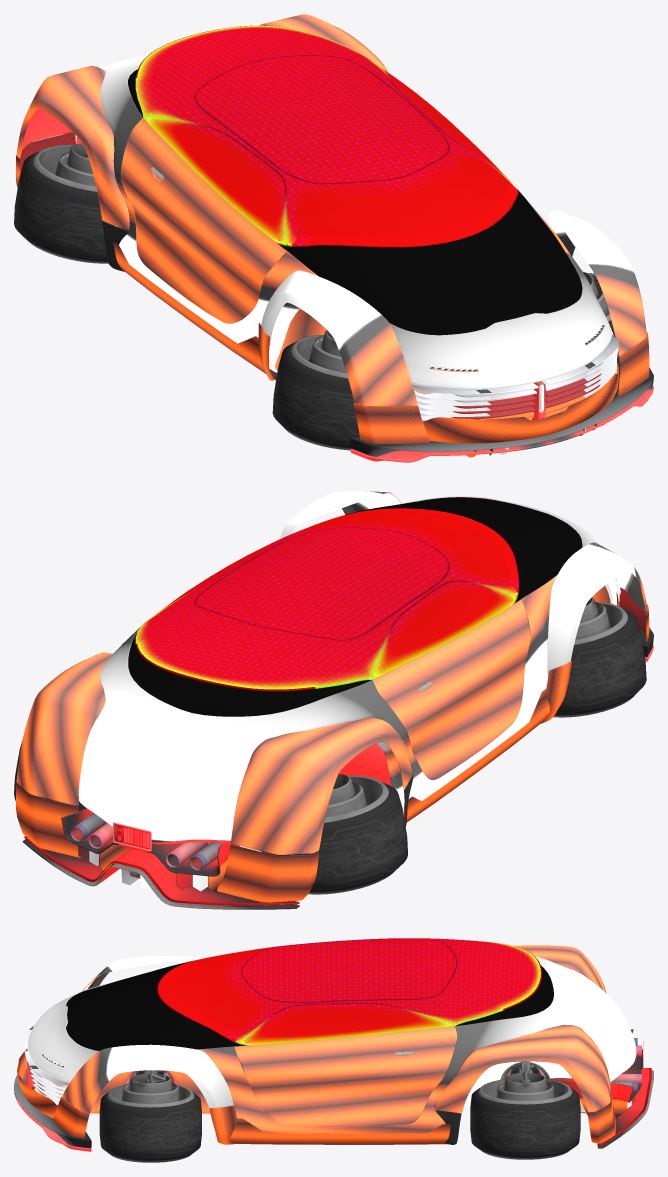
The model's file is SM_Catlow01_Hover.fbx.
3 renders of one model, top to bottom at view 1: azimuth 30°, elevation 25°; view 2: azimuth 150°, elevation 25°; view 3: azimuth 270°, elevation 25°, orthographic. The views are drawn at different scales.
Parts seen in each view (by area): view 1: SM_Catlow01_Hover_LOD0; view 2: SM_Catlow01_Hover_LOD0; view 3: SM_Catlow01_Hover_LOD0.
Part boxes in pixels (x1=…): SM_Catlow01_Hover_LOD0: x1=14, y1=14, x2=653, y2=462; SM_Catlow01_Hover_LOD0: x1=14, y1=491, x2=653, y2=909; SM_Catlow01_Hover_LOD0: x1=14, y1=938, x2=653, y2=1162.
Size of the model in its own units: 291 by 572 by 150.
